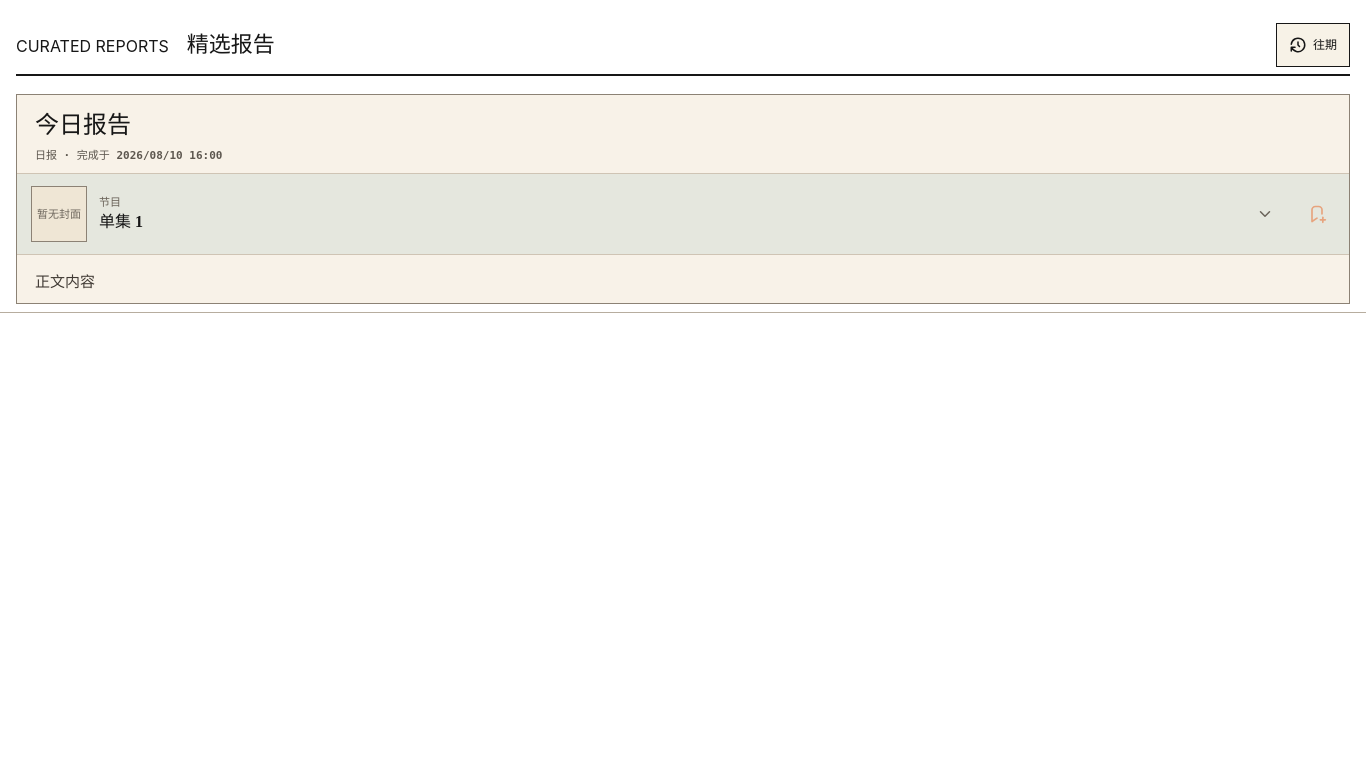
WorkflowReportWorkbench › marks and returns to the current history report without moving focus (#153)
Click the button "往期".
click(1313, 45)  # box [1276, 23, 1350, 67]
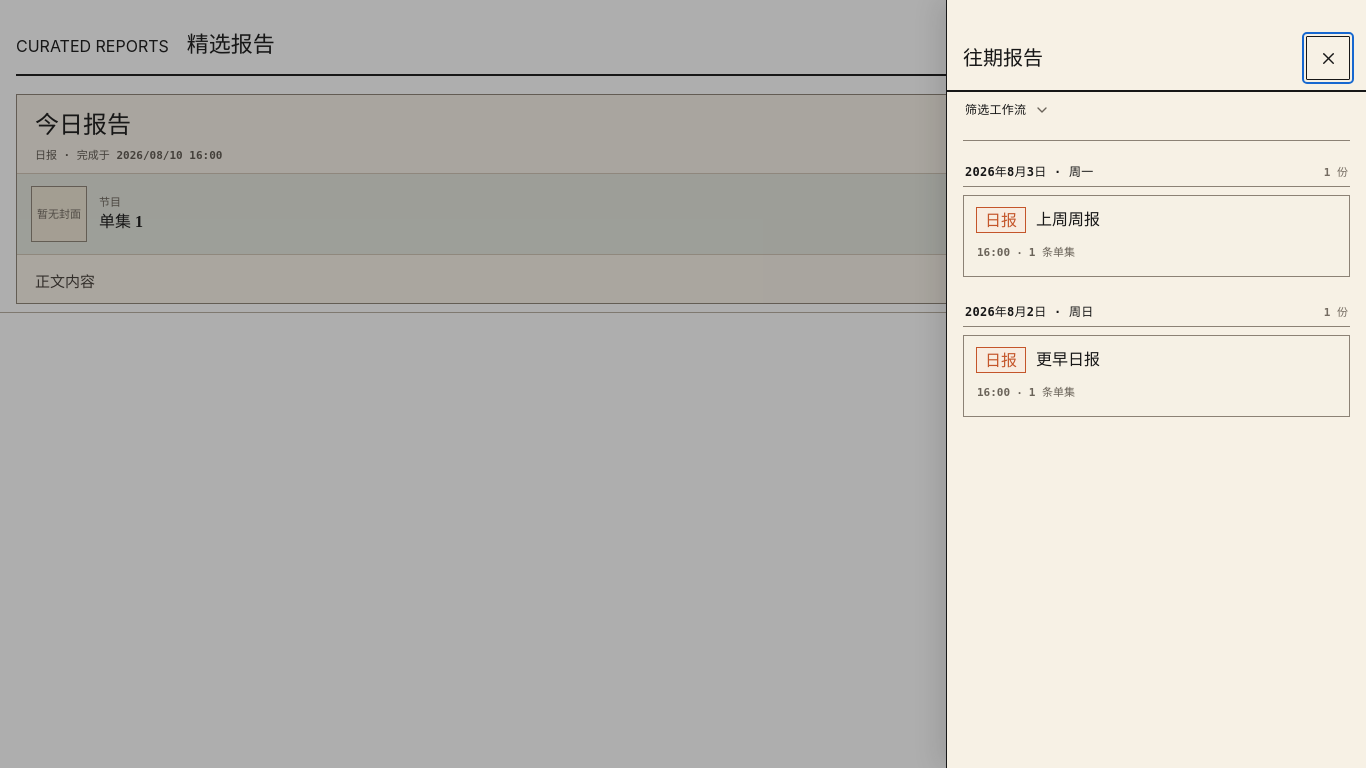
Expected: the text "当前查看" is not shown
Click the button "日报 上周周报 16:00 · 1 条单集".
click(1001, 220)  # box [963, 195, 1350, 277]
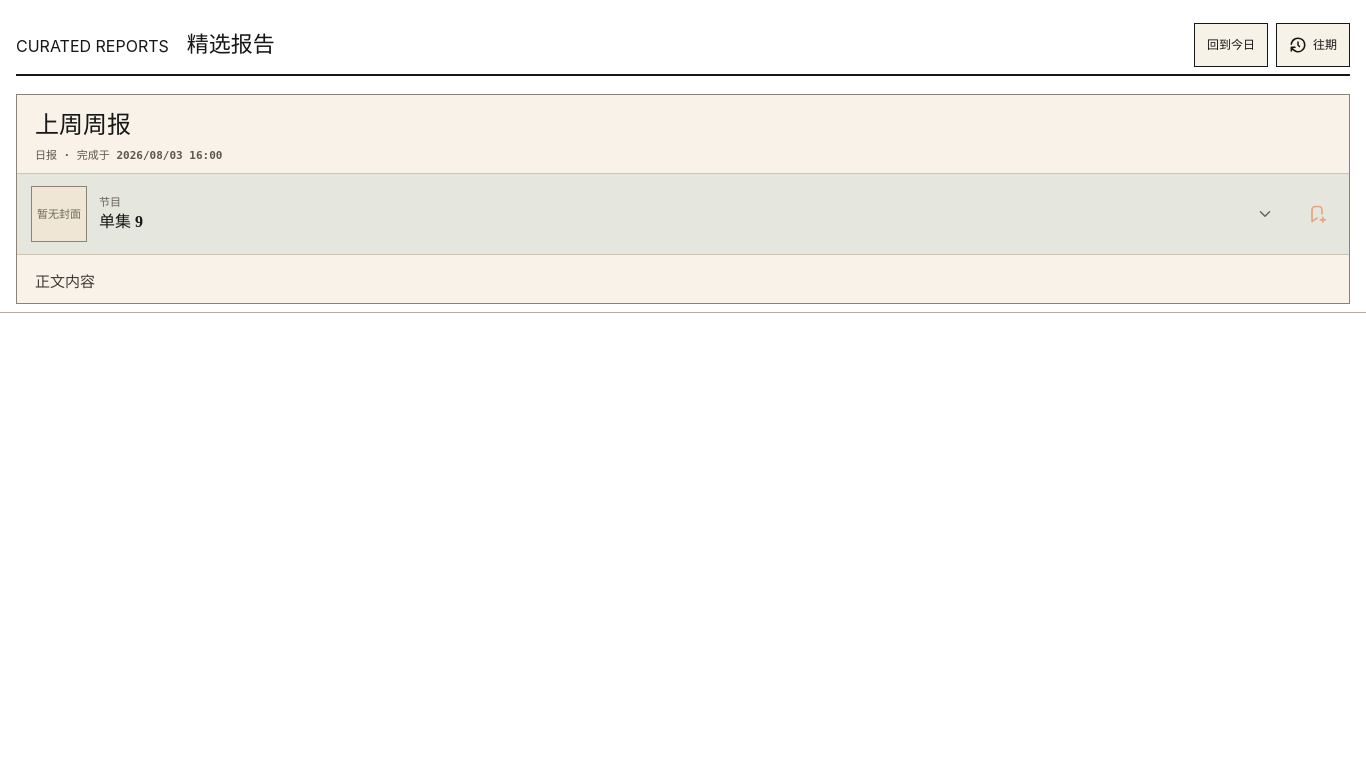
Click the button "往期".
click(1313, 45)  # box [1276, 23, 1350, 67]
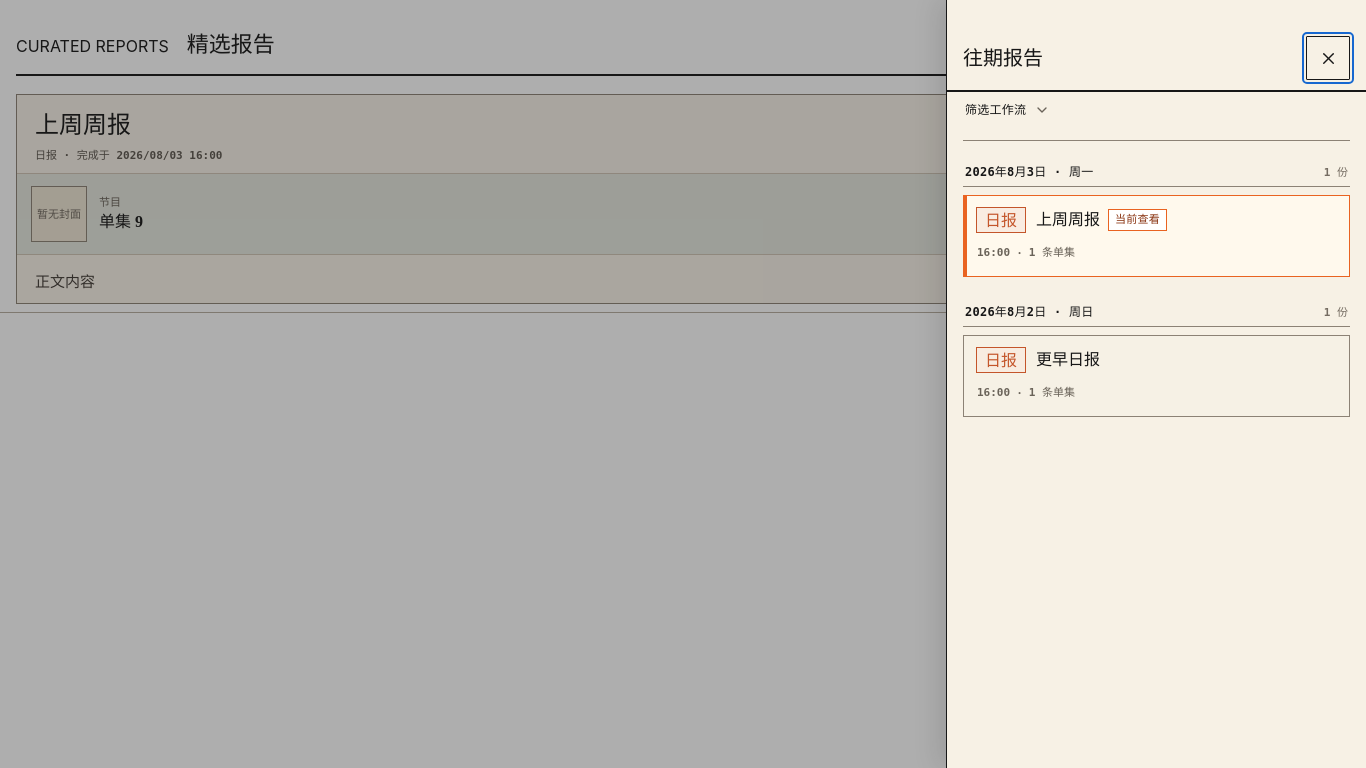
Expected: the text "当前查看" is shown, [1108, 209, 1167, 231]
